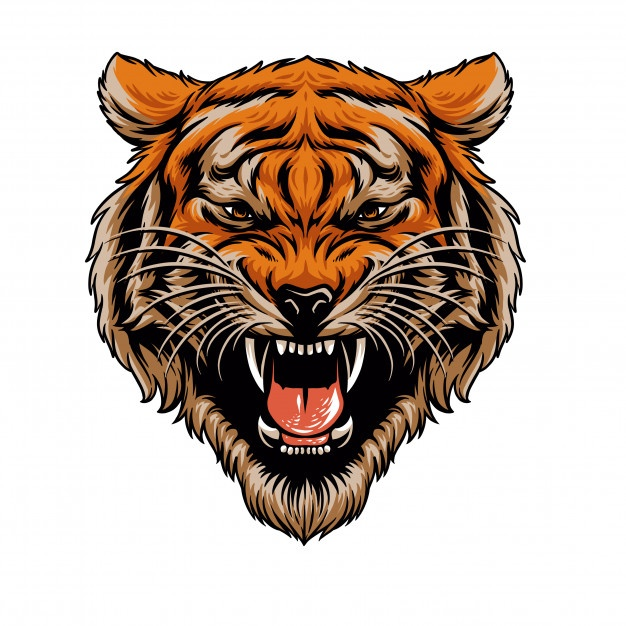Tigrew: (76, 41, 550, 538)
